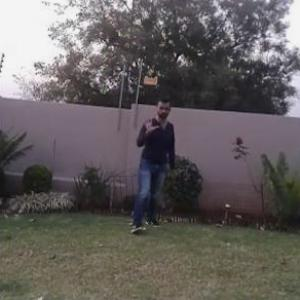follow_hand: (140, 110, 161, 136)
